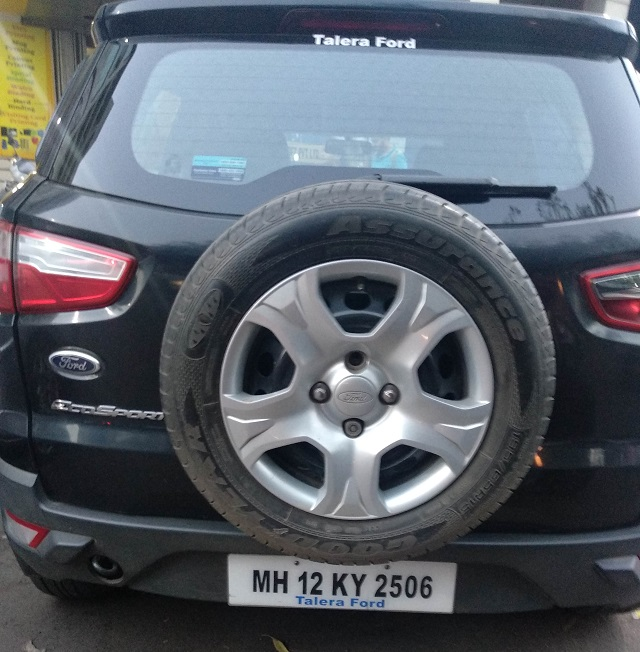licenseplate: (226, 549, 462, 615)
